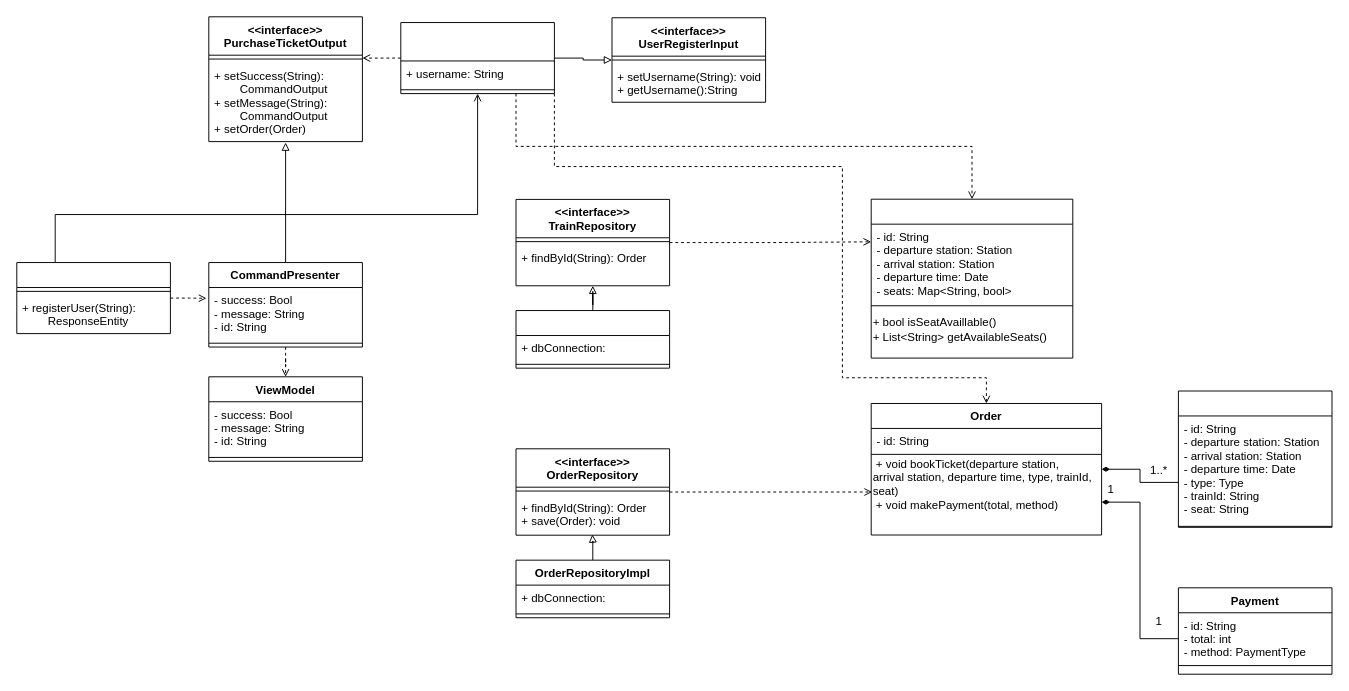
Some shapes in this 1349 by 691 pixel diagram are drawn without their labels. Each missing label, with the box of its shape:
PurchaseTicket UseCase: (400, 22, 554, 94)
Ticket: (1177, 390, 1332, 527)
Train: (870, 198, 1073, 358)
TrainRepositoryImpl: (515, 310, 670, 368)
UserRegisterController: (16, 262, 170, 334)
